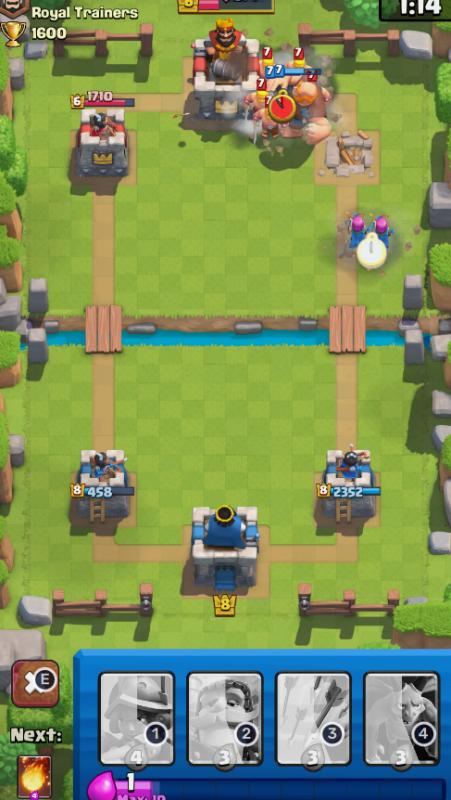archere: (335, 206, 375, 252), (365, 210, 401, 256)
geant: (275, 72, 336, 153)
